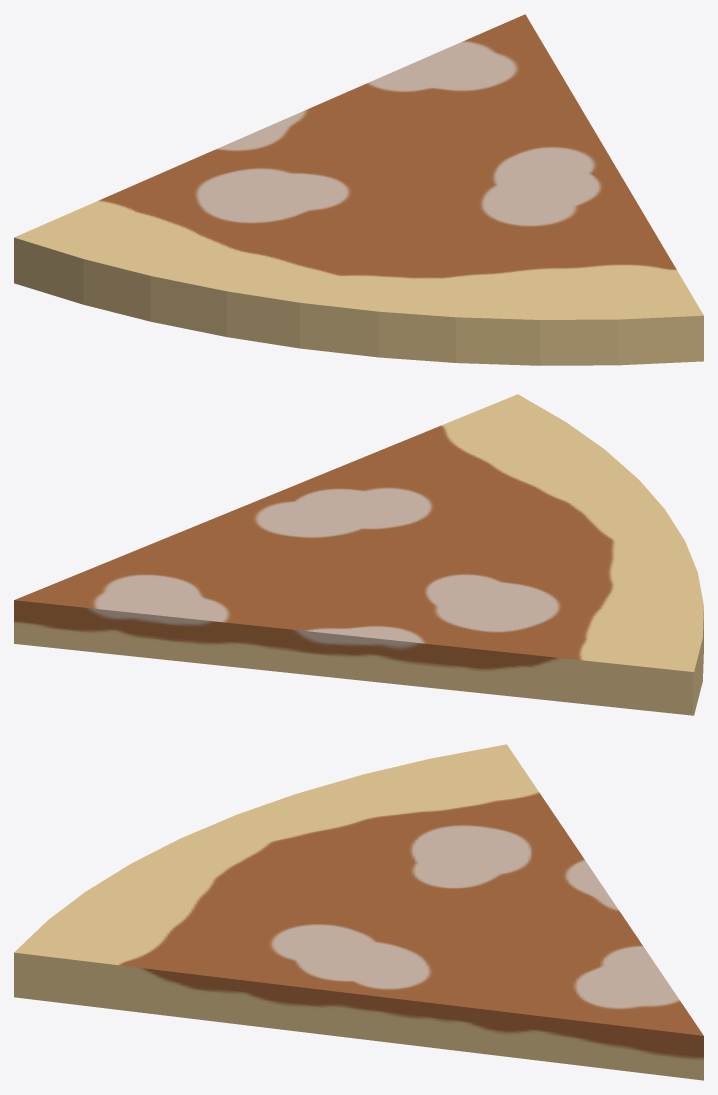
The model's file is pizzastück1.fbx.
3 renders of one model, top to bottom at view 1: azimuth 30°, elevation 25°; view 2: azimuth 150°, elevation 25°; view 3: azimuth 270°, elevation 25°, orthographic. The views are drawn at different scales.
Visible parts, largest first — view 1: Würfel; view 2: Würfel; view 3: Würfel.
Part boxes in pixels (x1,y1,x2,y2): Würfel: (14, 14, 703, 365); Würfel: (14, 394, 703, 715); Würfel: (14, 744, 703, 1080).
Bounding box in the file's own units: 700 × 50 × 700.
1 material, 1 textured.
